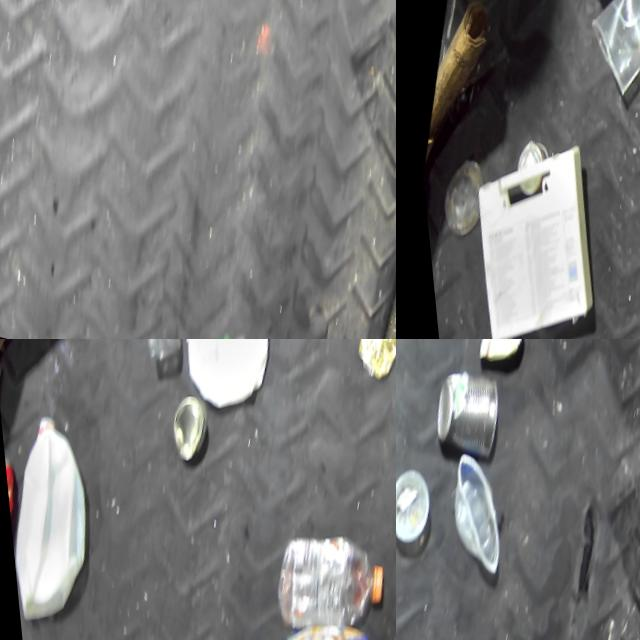can: (152, 388, 209, 465), (335, 339, 396, 379), (0, 452, 13, 547)
milk_jug: (0, 408, 104, 619), (152, 339, 294, 404)
plastic_bottle: (261, 527, 386, 638), (187, 328, 304, 339)
